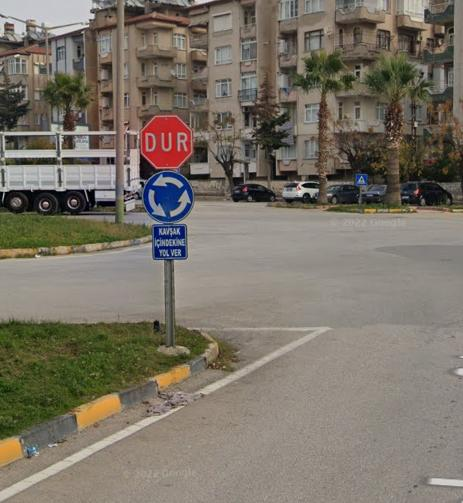crossroads: (145, 173, 193, 222)
stop: (142, 116, 192, 170)
